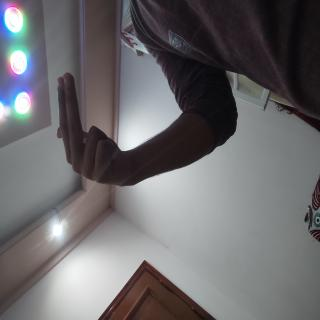GHAYN: (54, 67, 129, 196)
